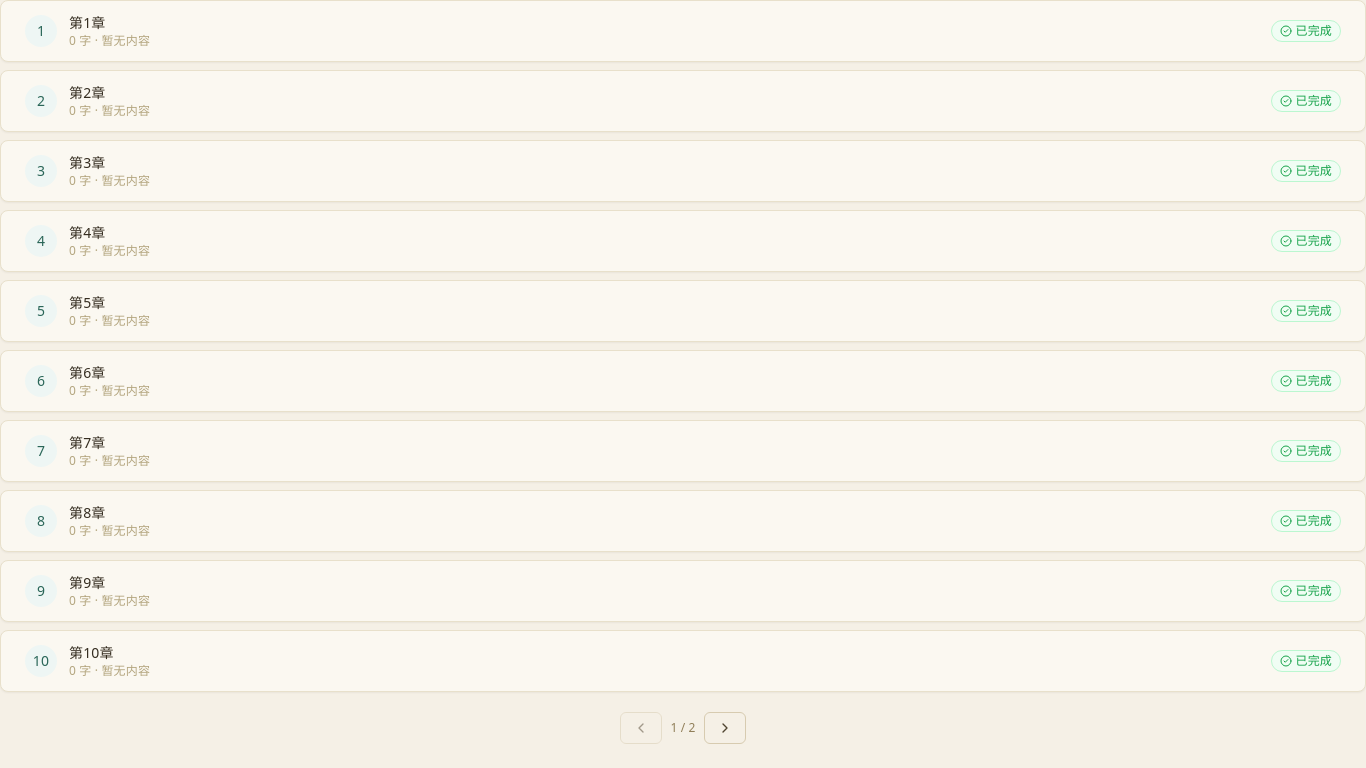
Scenario: ChapterList › 分页：多页时显示页码并切换
Expected: the text "第1章" is shown, [69,13,106,32]
Expected: the text "第10章" is shown, [69,643,114,662]
Click the 2nd button at [725, 728], box [704,712,746,744]
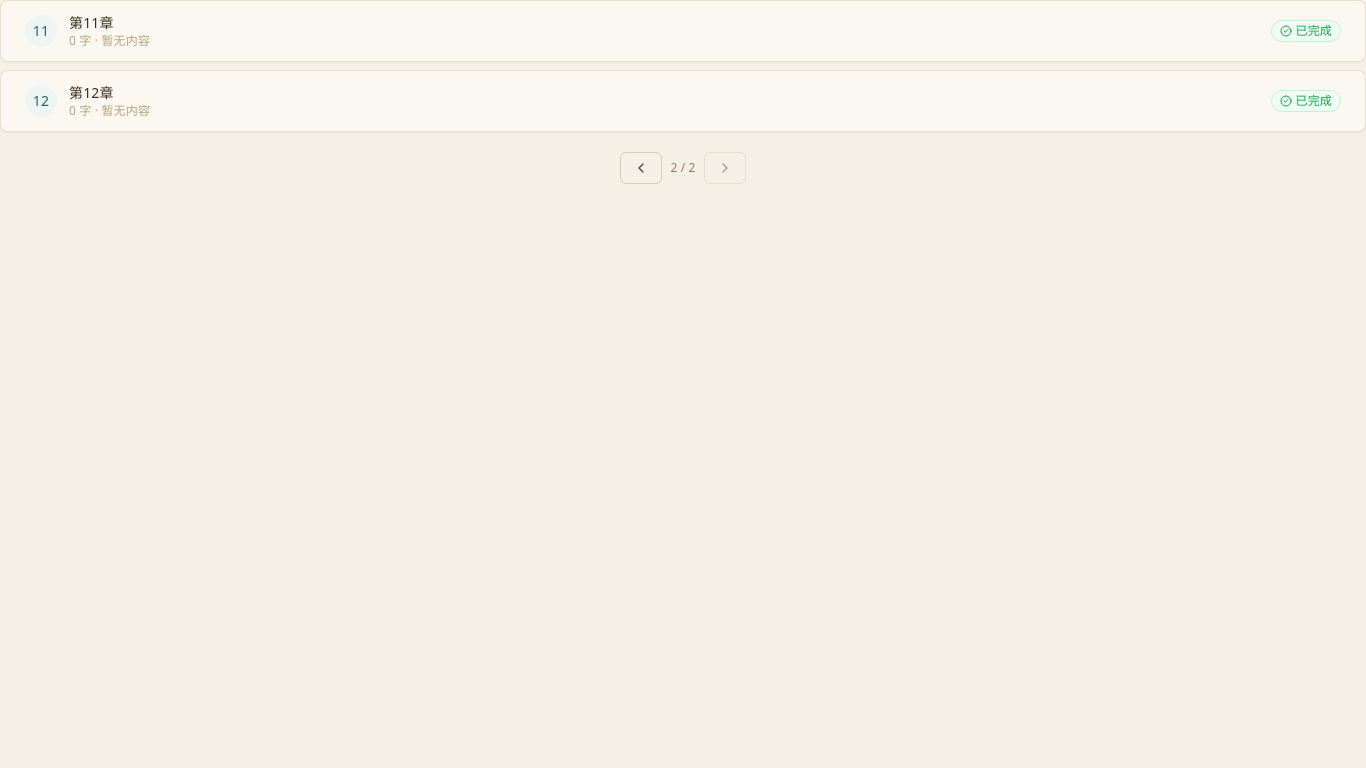
Expected: the text "第11章" is shown, [69,13,114,32]
Expected: the text "第12章" is shown, [69,83,114,102]
Expected: the text "第1章" is gone
